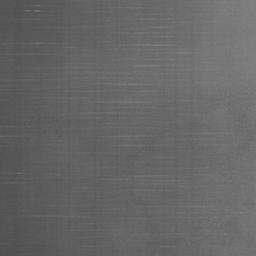Waist folding: (0, 10, 256, 157), (0, 169, 256, 253), (0, 207, 116, 226), (0, 0, 88, 15), (0, 244, 96, 254), (60, 24, 87, 30)
